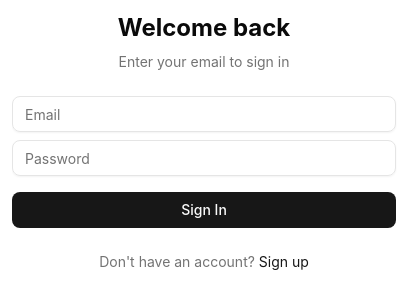
Scenario: AuthForm › toggles to sign up mode
Click the button "Sign up" at x=284, y=262, box top-left (259, 252), bottom-right (309, 272)
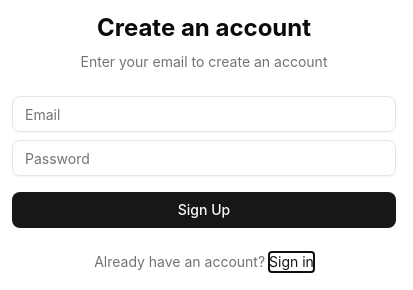
expect the heading "Create an account" is shown: met, box top-left (97, 13), bottom-right (311, 42)
expect the button "Sign Up" is shown: met, box top-left (12, 192), bottom-right (396, 228)
